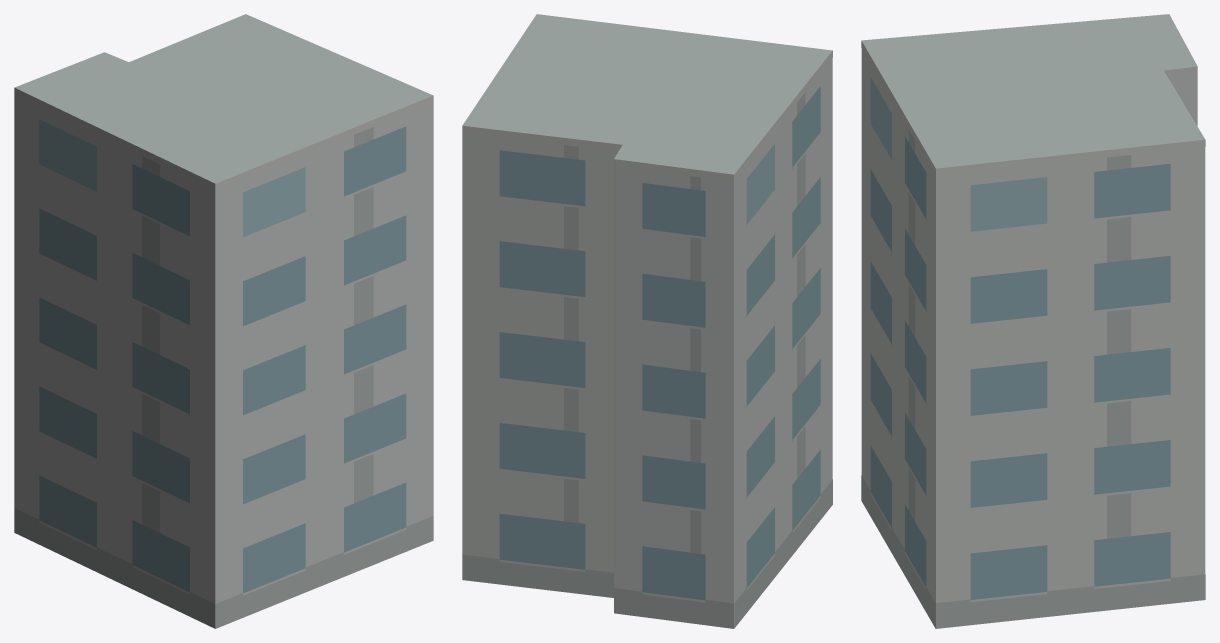
Rendered from survey-upis-32829027.glb.
The picture shows the model from 3 angles, left to right: view 1: azimuth 30°, elevation 25°; view 2: azimuth 150°, elevation 25°; view 3: azimuth 270°, elevation 25°; orthographic projection. The views are drawn at different scales.
Visible parts, largest first — view 1: survey-upis-32829027.tmp; view 2: survey-upis-32829027.tmp; view 3: survey-upis-32829027.tmp.
Part boxes in pixels (x1,y1,x2,y2): survey-upis-32829027.tmp: [14, 14, 433, 628]; survey-upis-32829027.tmp: [462, 14, 832, 628]; survey-upis-32829027.tmp: [861, 14, 1205, 628].
Size of the model in its own units: 10.99 by 15.25 by 10.34.
